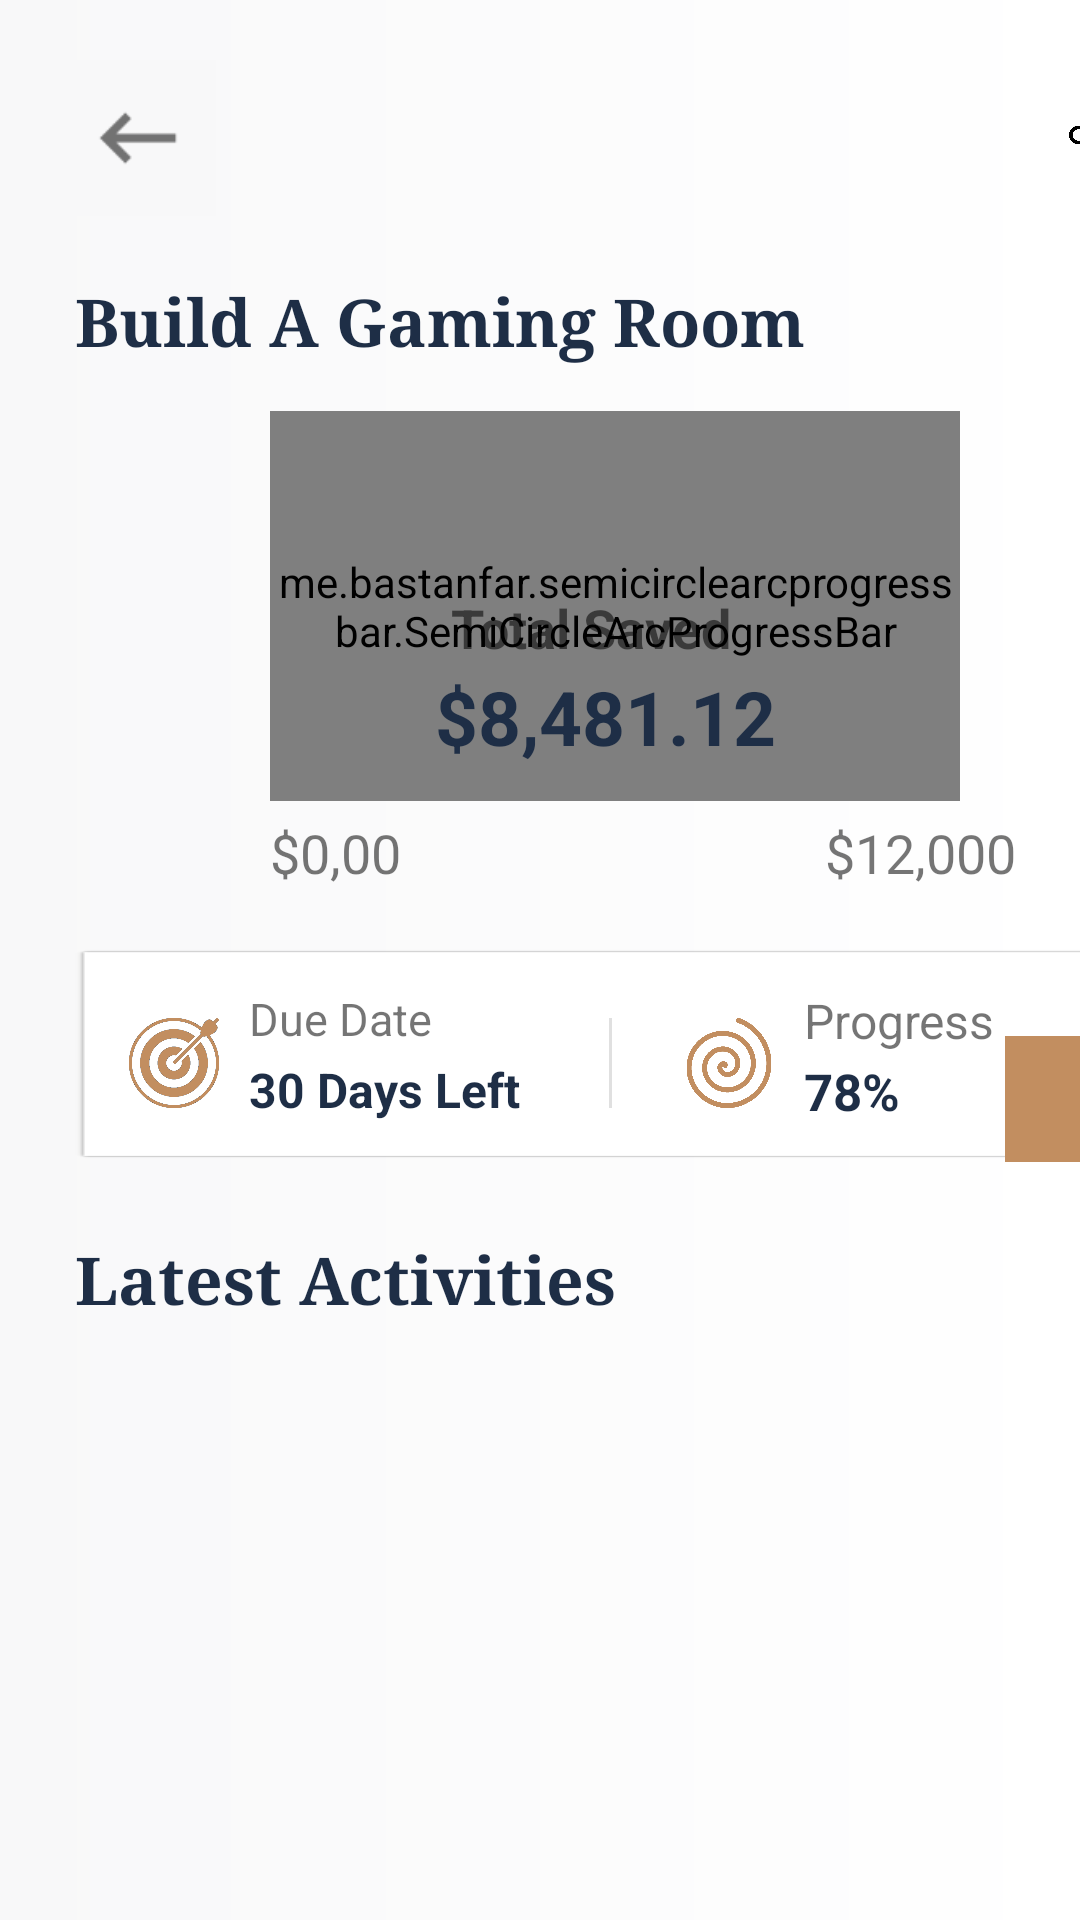

Screen size 1080px×1920px. Icon name, then its box in pixels as (x1, y1, x2, y2):
keyboard backspace: (100, 113, 177, 164)
